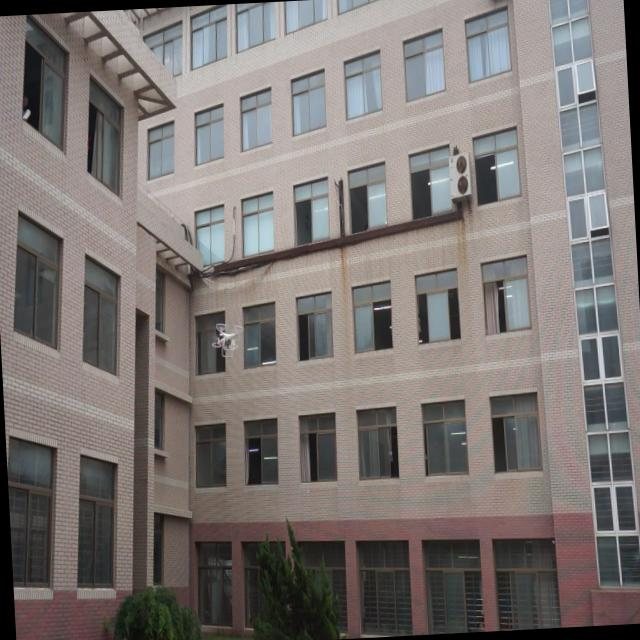drone: (210, 322, 246, 364)
